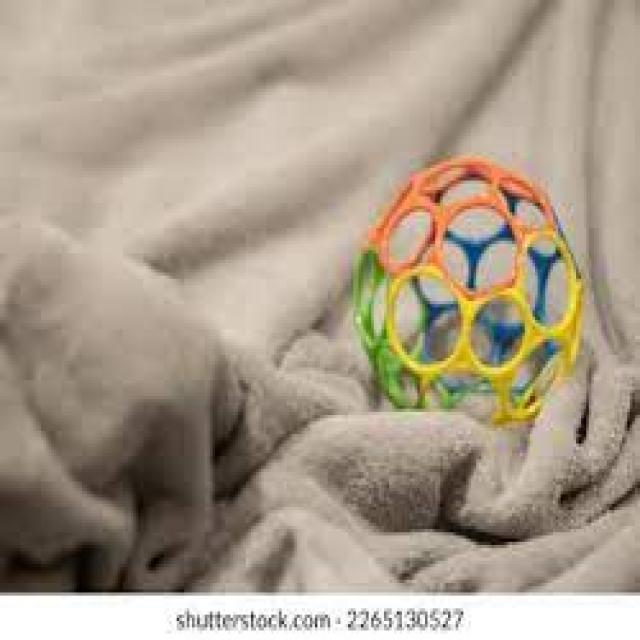hard-toy: (355, 157, 585, 425)
